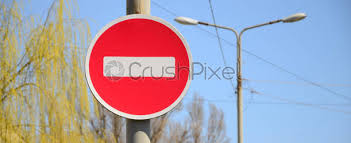No entry: (86, 14, 193, 120)
